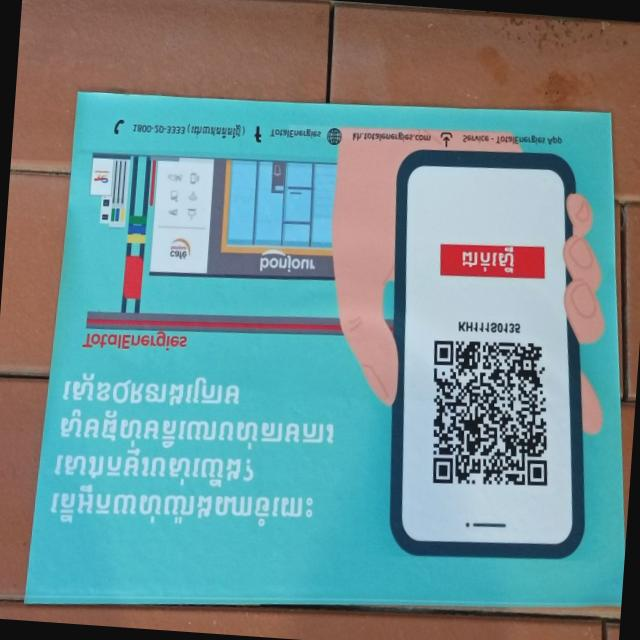619: (130, 120, 187, 138)
Yolov11_80vkh: (44, 482, 316, 528), (55, 407, 341, 450), (50, 447, 261, 488), (143, 375, 242, 409), (59, 369, 112, 406), (188, 121, 243, 139)
